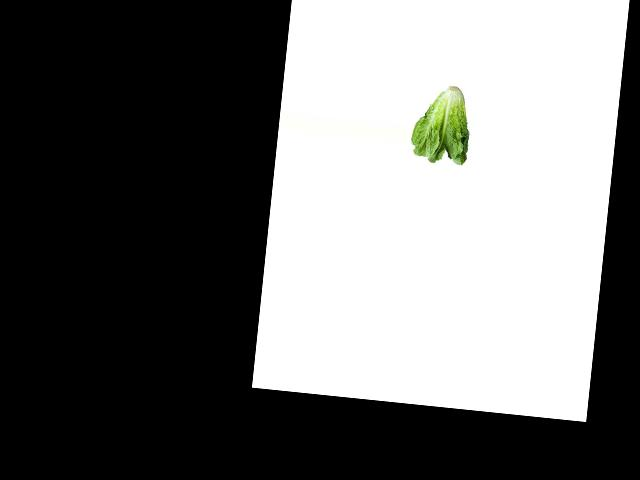lettuce: (409, 80, 475, 166)
